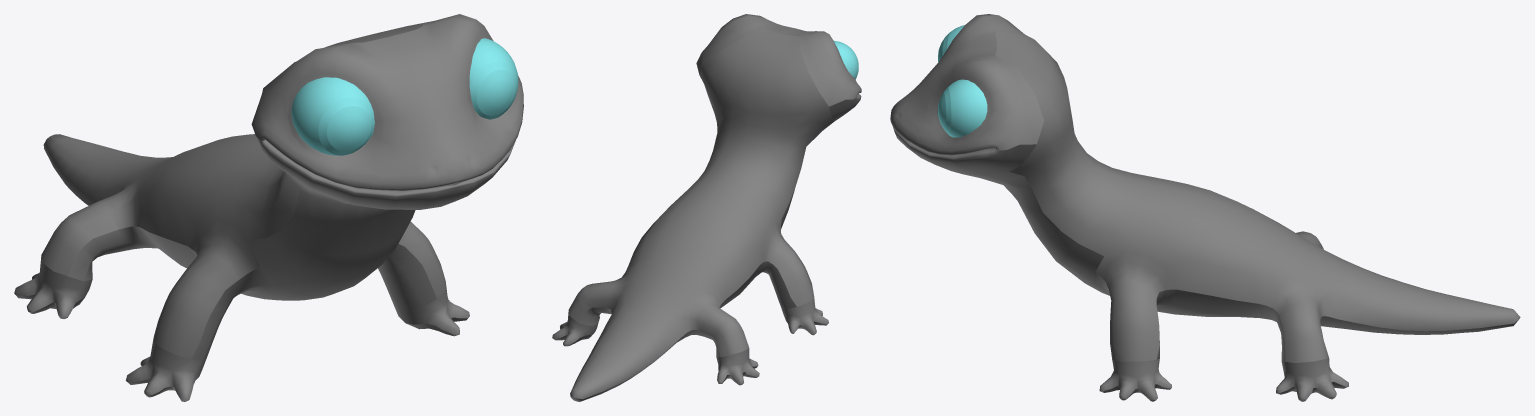
Rendered from Bruni_Low.fbx.
The picture shows the model from 3 angles, left to right: view 1: azimuth 30°, elevation 25°; view 2: azimuth 150°, elevation 25°; view 3: azimuth 270°, elevation 25°; orthographic projection. The views are drawn at different scales.
Visible parts, largest first — view 1: LowBody, loweye, loweye2; view 2: LowBody, loweye; view 3: LowBody, loweye2.
Boxes of the visible parts, left/top/right/bottom form: LowBody: left=14, top=14, right=523, bottom=401; loweye: left=291, top=77, right=374, bottom=155; loweye2: left=469, top=38, right=518, bottom=119; LowBody: left=552, top=14, right=861, bottom=401; loweye: left=834, top=40, right=858, bottom=79; LowBody: left=890, top=14, right=1520, bottom=401; loweye2: left=938, top=79, right=987, bottom=137.
Size of the model in its own units: 229 by 263 by 495.
